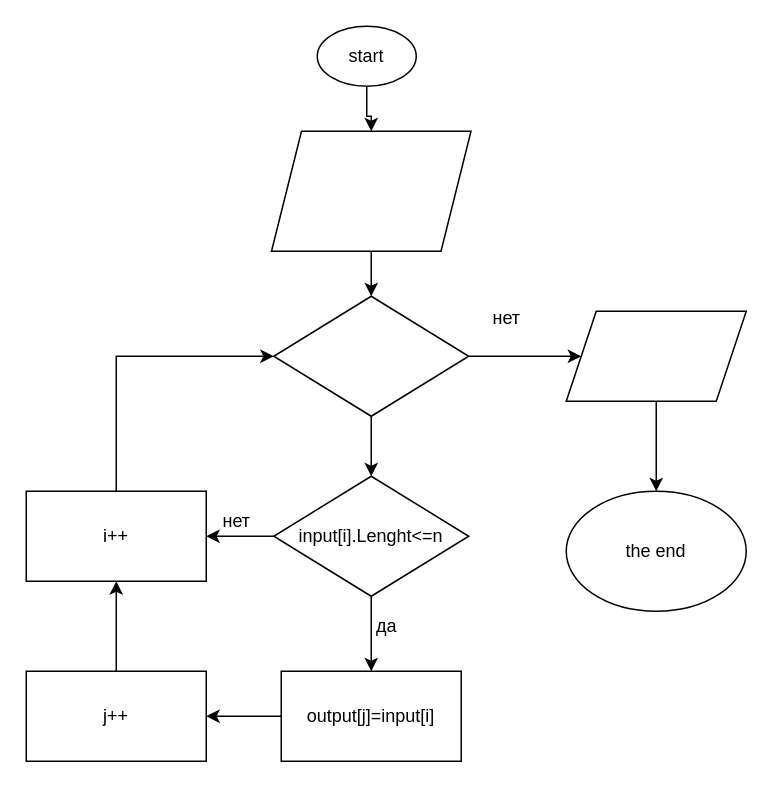
The diagram is 773 pixels wide and 788 high, and some of its shapes have lost their labels. Here are the shapes that lost their labels. From the top down, the centre of each, then its label:
At point (370, 190): "string[] input string[]output int i=0 int j=0 int n =3".
At point (370, 355): "i<input.Lenght".
At point (655, 355): "output".
